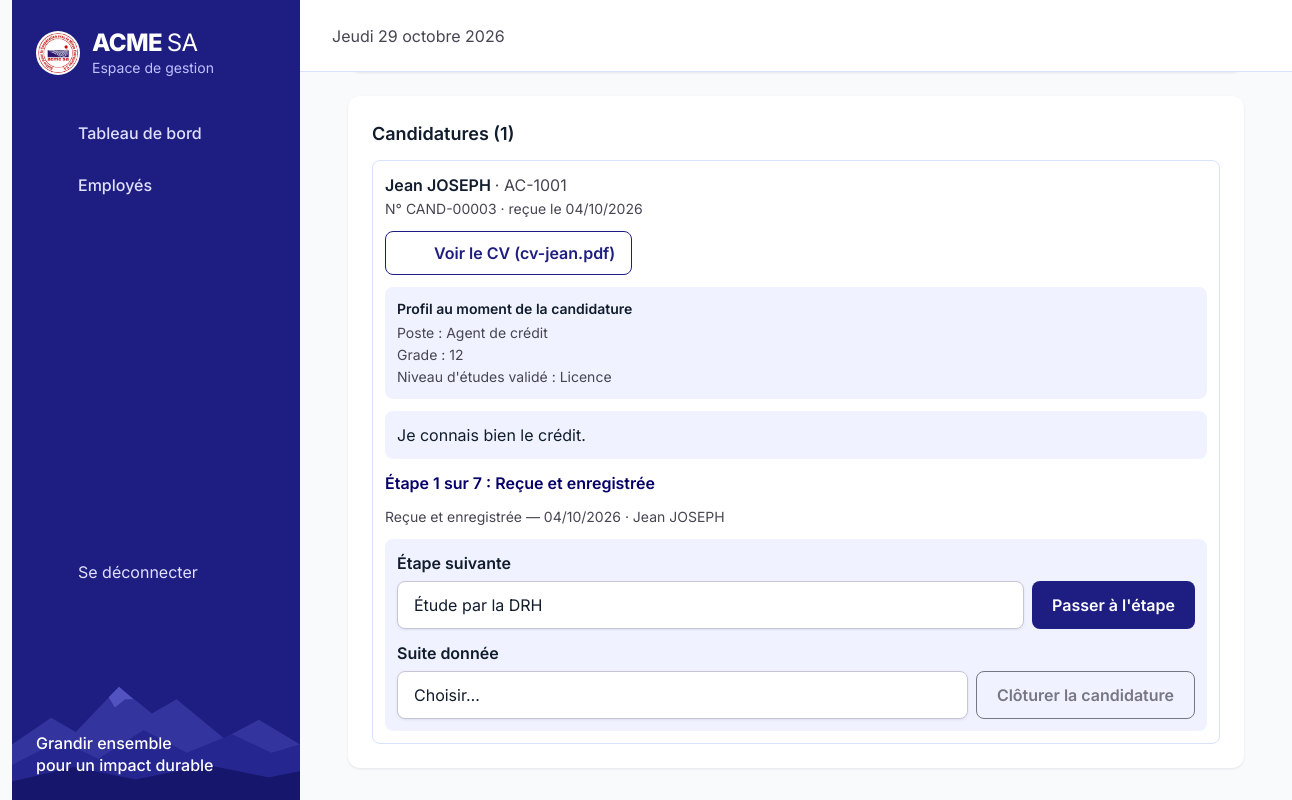
Test case: US-902 — candidatures sur la fiche du poste › un Agent RH fait passer la candidature à l'étape suivante
(page scrolled)
Select "Consultation du responsable du département" in the dropdown labelled "Étape suivante" at x=710, y=605, box [397,581,1024,629]
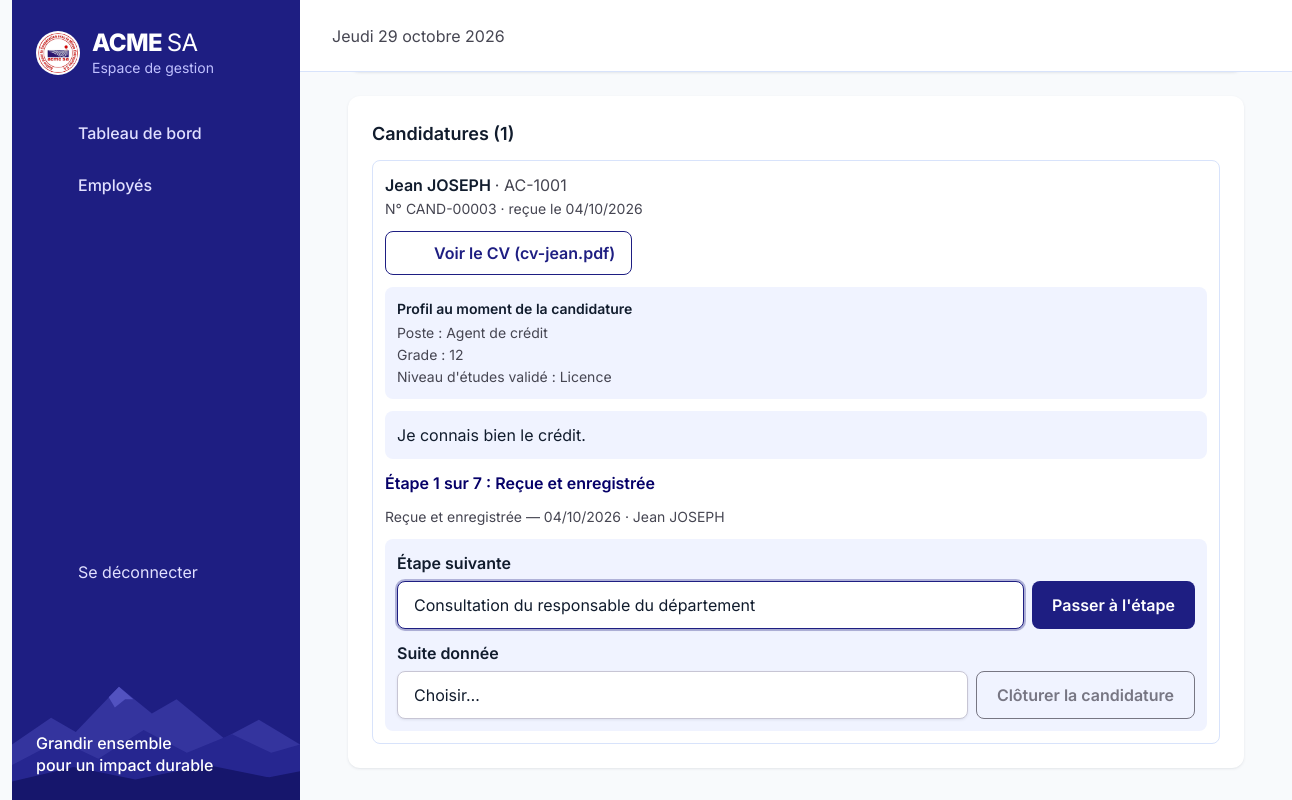
Click the button "Passer à l'étape".
click(1114, 605)  # box [1032,581,1195,629]
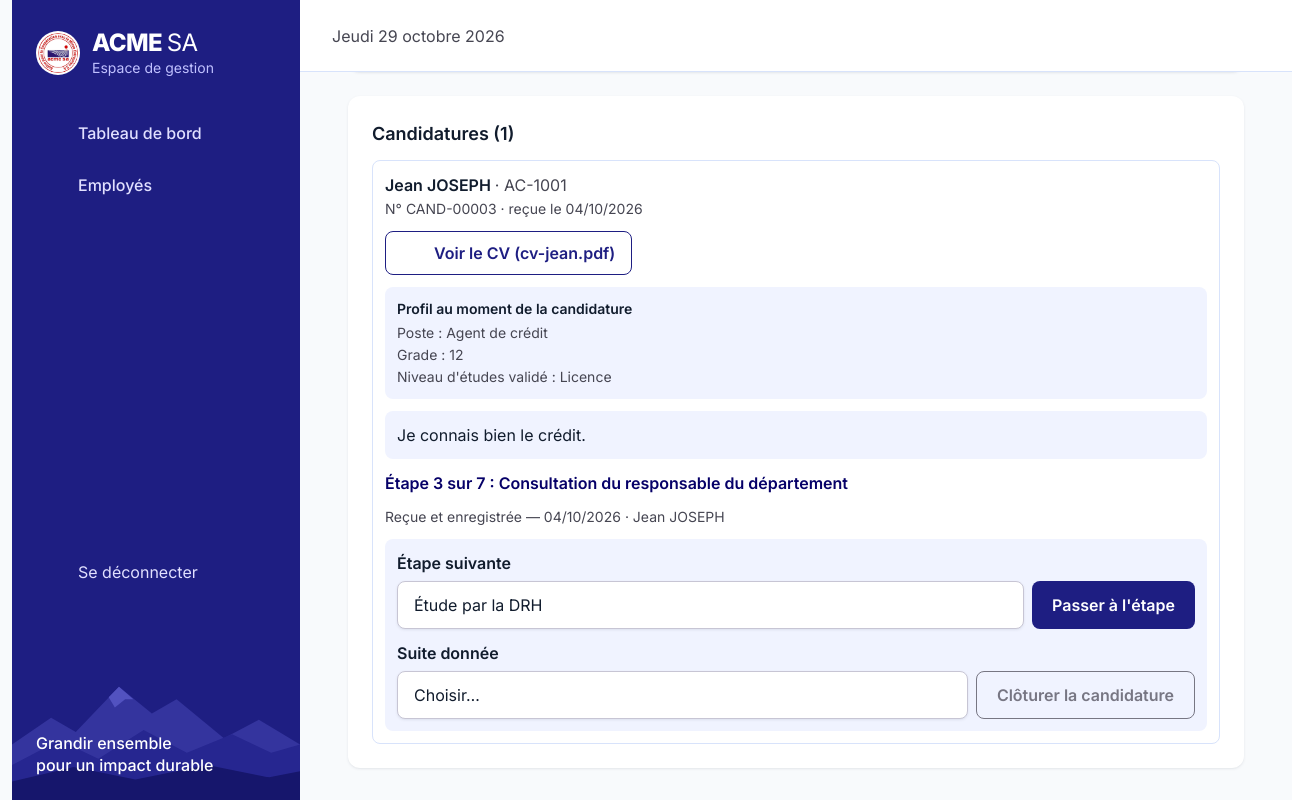
Now the text "Étape 3 sur 7 : Consultation du responsable du département" is shown, box [385,473,848,493]
